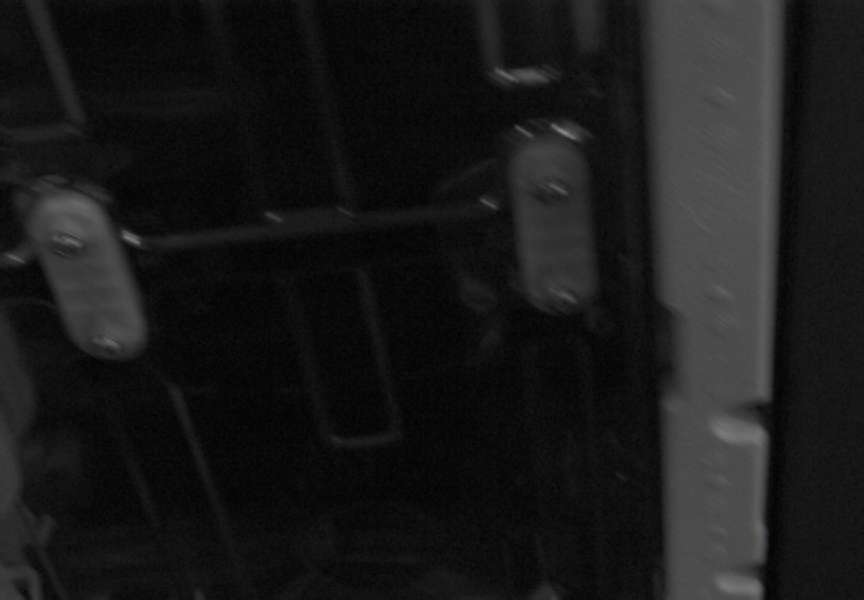screw: (546, 283, 585, 314), (49, 231, 86, 258), (533, 179, 571, 205), (90, 334, 123, 356)
